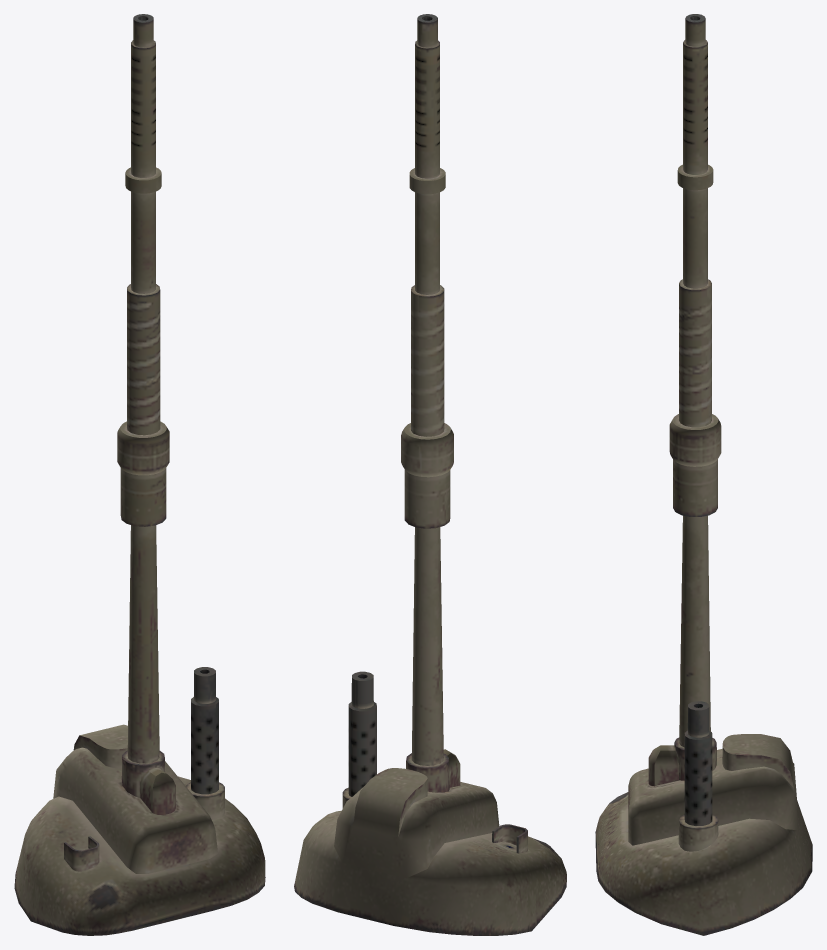
The model's file is Gun_03.glb.
3 views of the same model, side by side, from view 1: azimuth 30°, elevation 25°; view 2: azimuth 150°, elevation 25°; view 3: azimuth 270°, elevation 25° (orthographic). The views are drawn at different scales.
Visible parts, largest first — view 1: set_0_group_0; view 2: set_0_group_0; view 3: set_0_group_0.
Part boxes in pixels (x1,y1,x2,y2): set_0_group_0: [14, 14, 265, 935]; set_0_group_0: [294, 14, 566, 935]; set_0_group_0: [595, 14, 812, 935].
Bounding box in the file's own units: 0.51 × 1.94 × 0.4421.
1 material, 1 textured.
